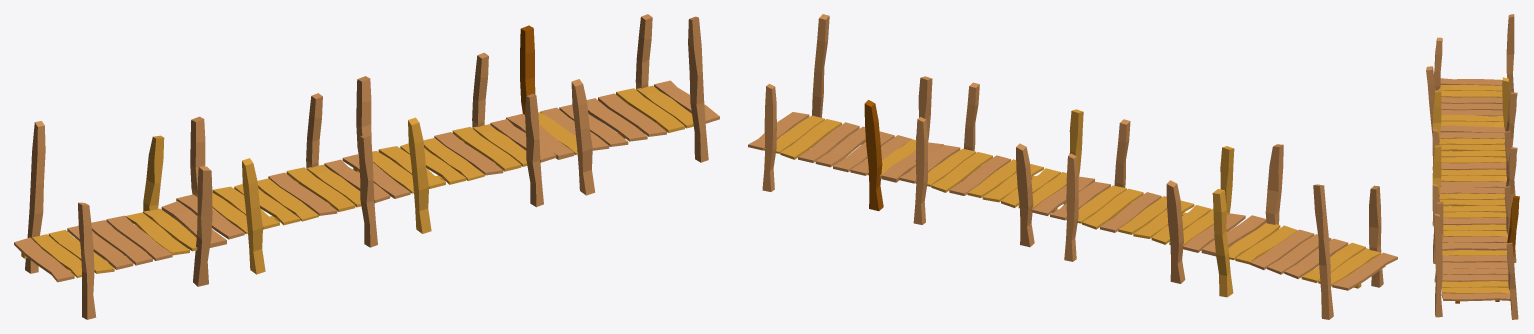
File: cartoon_boardwalk_large-87ae8933.glb
3 renders of one model, left to right at view 1: azimuth 30°, elevation 25°; view 2: azimuth 150°, elevation 25°; view 3: azimuth 270°, elevation 25°, orthographic. The views are drawn at different scales.
Visible parts, largest first — view 1: Object_2, Object_4, Object_3; view 2: Object_2, Object_4, Object_3; view 3: Object_2, Object_4, Object_3.
Part boxes in pixels (x1,y1,x2,y2): Object_2: (14, 14, 719, 319); Object_4: (21, 85, 693, 277); Object_3: (520, 25, 659, 138); Object_2: (748, 14, 1397, 319); Object_4: (764, 109, 1385, 297); Object_3: (830, 100, 883, 210); Object_2: (1426, 14, 1518, 319); Object_4: (1432, 77, 1510, 293); Object_3: (1455, 196, 1519, 303).
Bounding box in the file's own units: 79.7 × 17.39 × 14.34.
